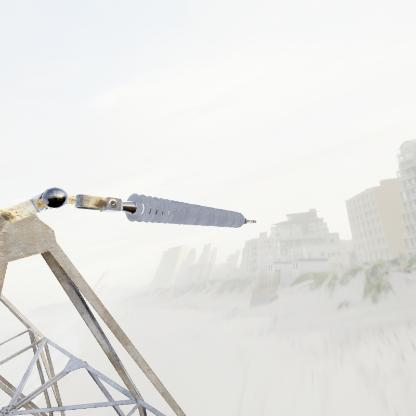insulator: (123, 191, 250, 233)
